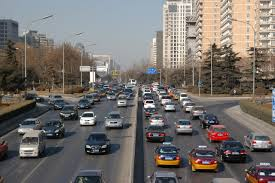nonacc: (10, 85, 259, 178)
